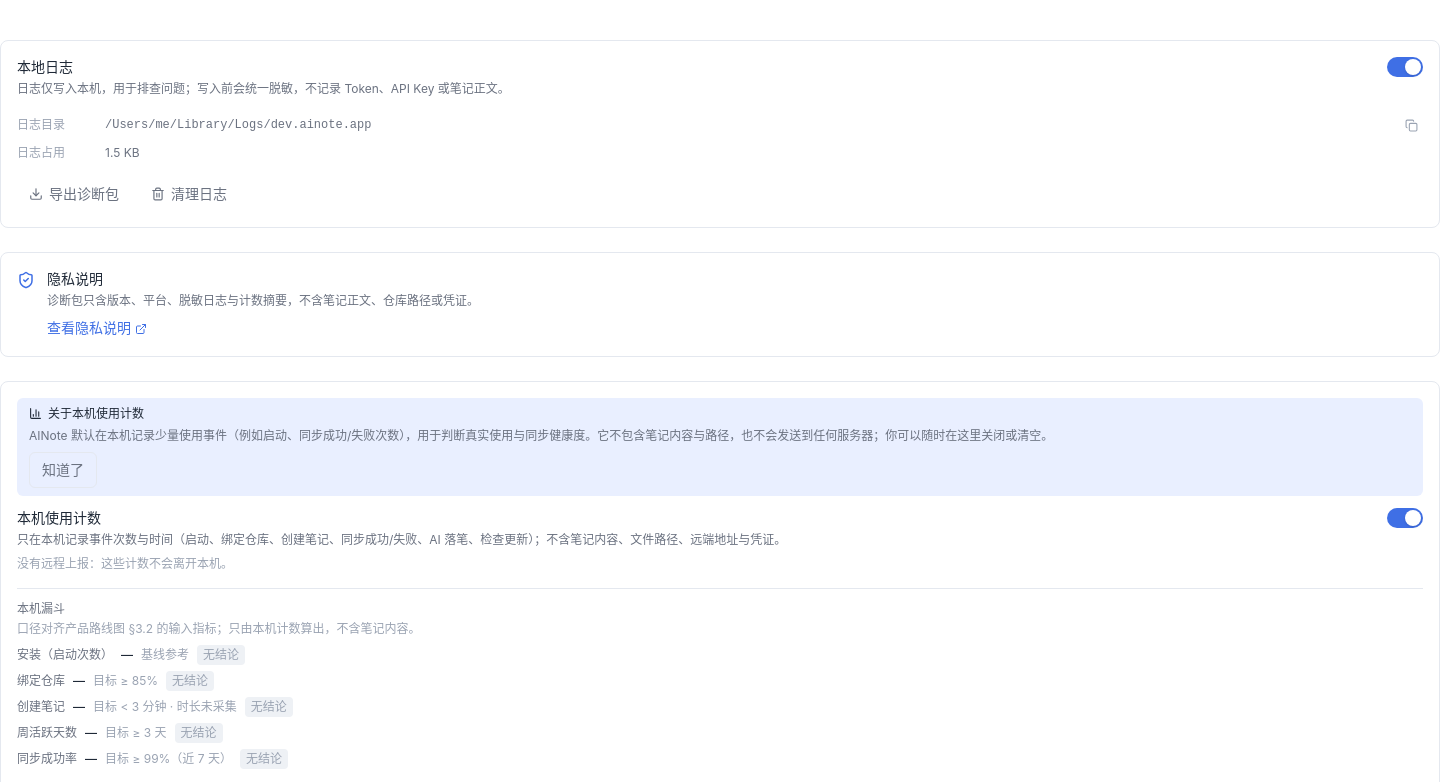
it: SupportSettings 清理与隐私 › 用户取消确认时不清理日志
Expected: the text "1.5 KB" is shown, [105, 145, 140, 161]
Click the button "清理日志": (189, 194) [139, 177, 239, 211]
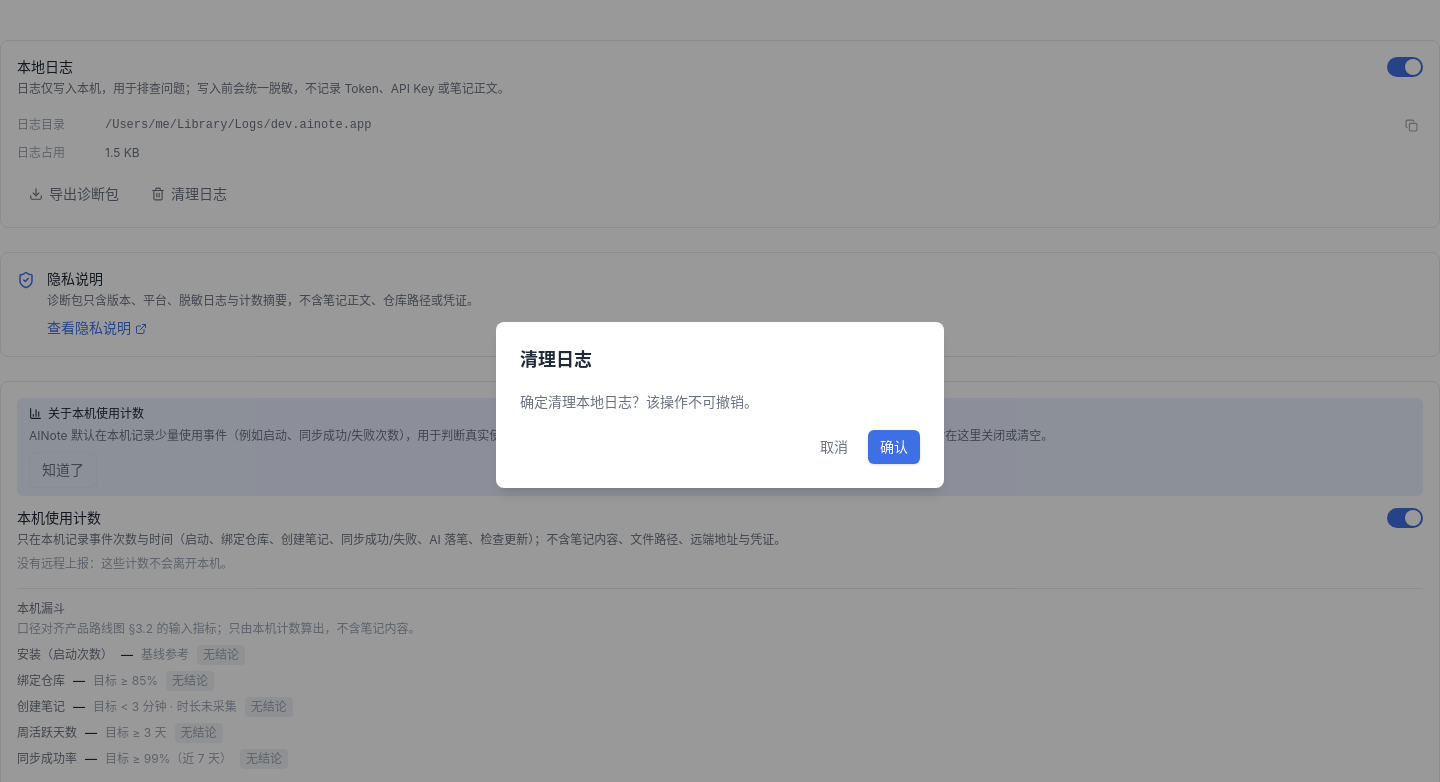
Click the button "取消": (834, 447) [808, 430, 860, 464]
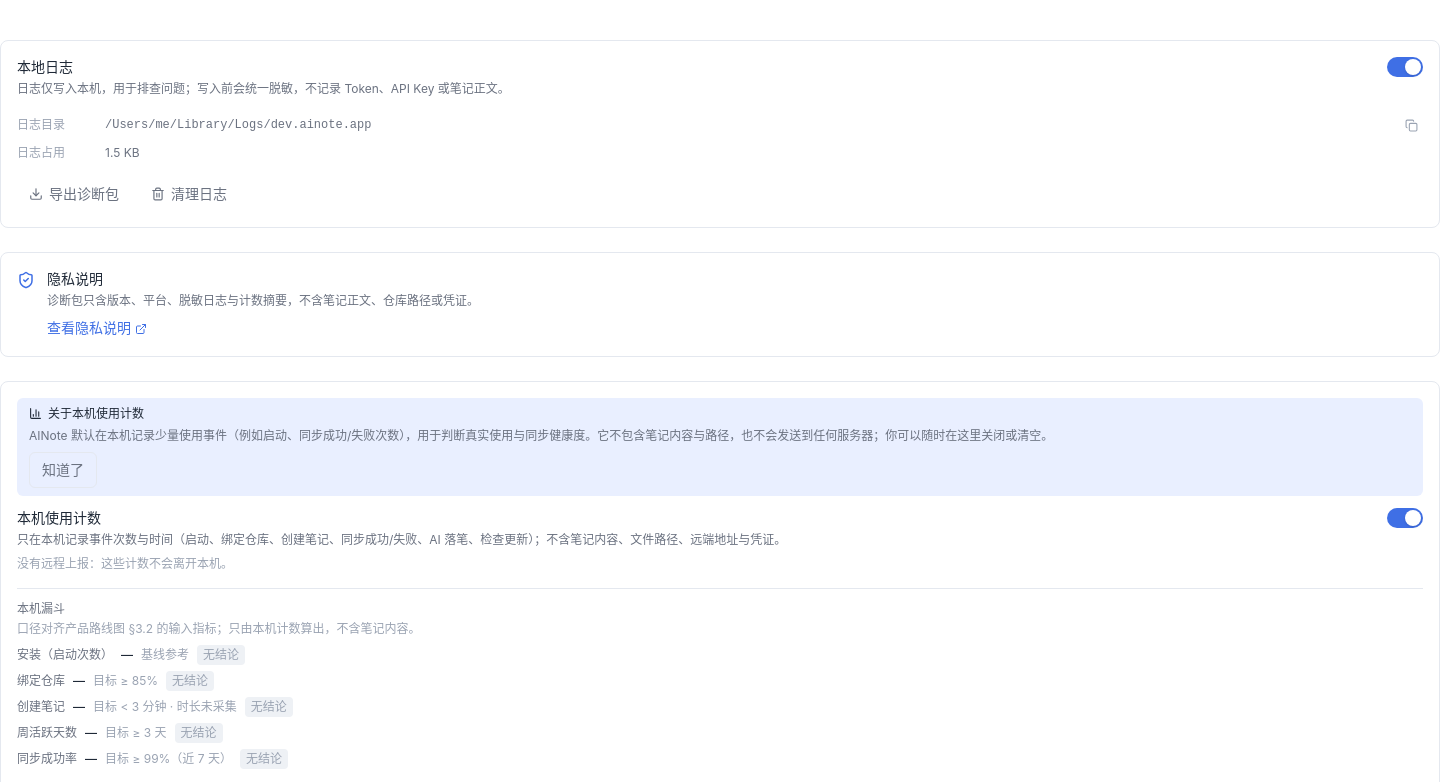
Expected: the dialog is gone
